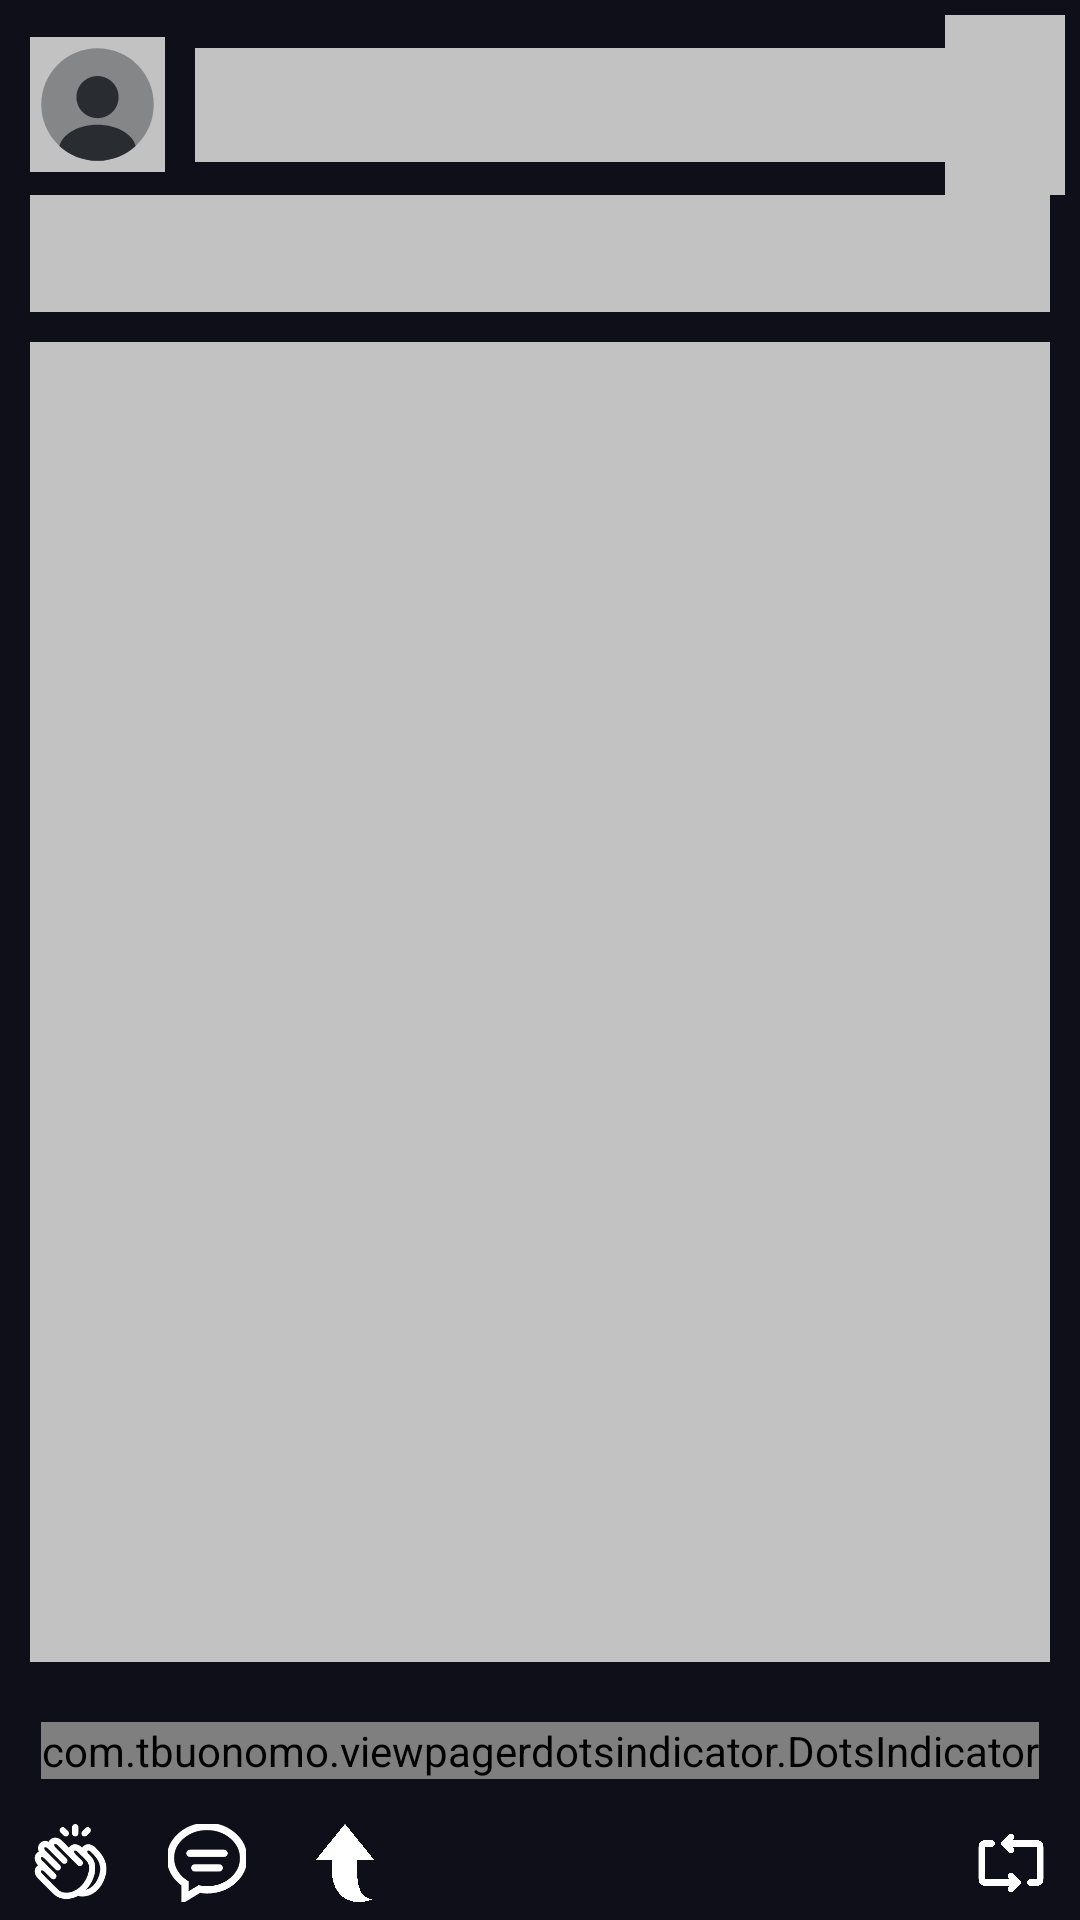

Locate icon controls on the screen. Image size 1080 x 1920, boxes as {"left": x1, "top": y1, "right": x2, "bottom": y2}.
clap: {"left": 34, "top": 1824, "right": 107, "bottom": 1899}
comment: {"left": 168, "top": 1824, "right": 246, "bottom": 1902}
profile circle: {"left": 30, "top": 37, "right": 165, "bottom": 172}
